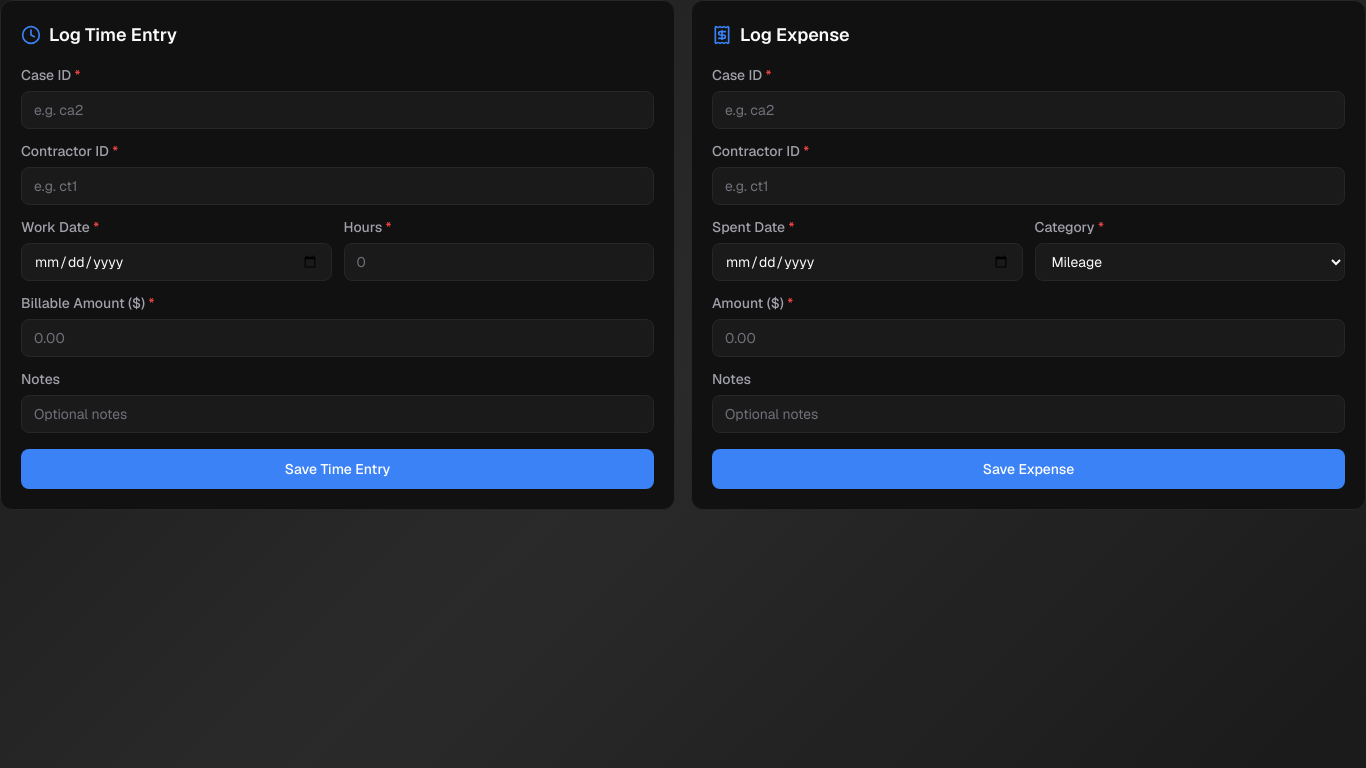
Test: TeamEntryForms › shows network error on fetch failure for expense
Type "ca1" into the field with id "ex-caseId". click: (1028, 110)
box: [712,91,1345,129]
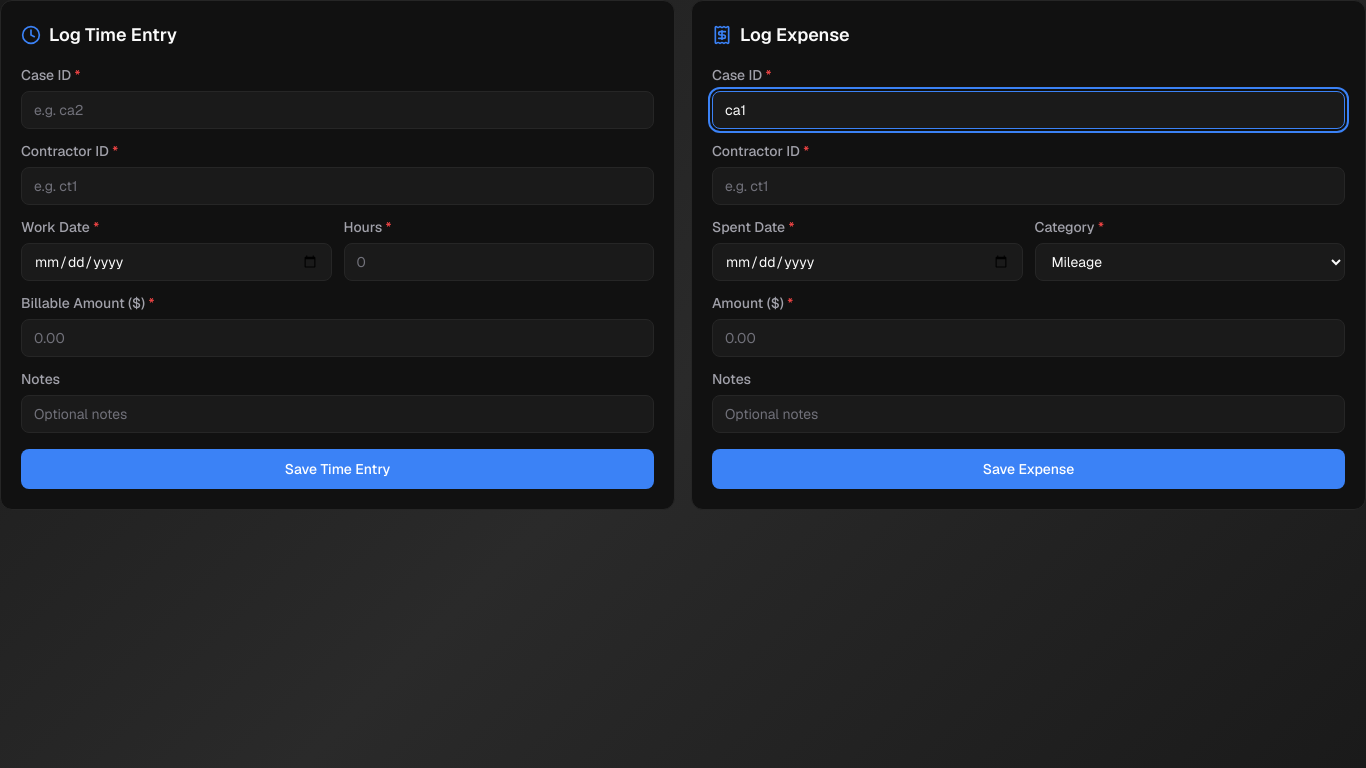
Type "ct1" into the field with id "ex-contractorId". click: (1028, 186)
box: [712,167,1345,205]
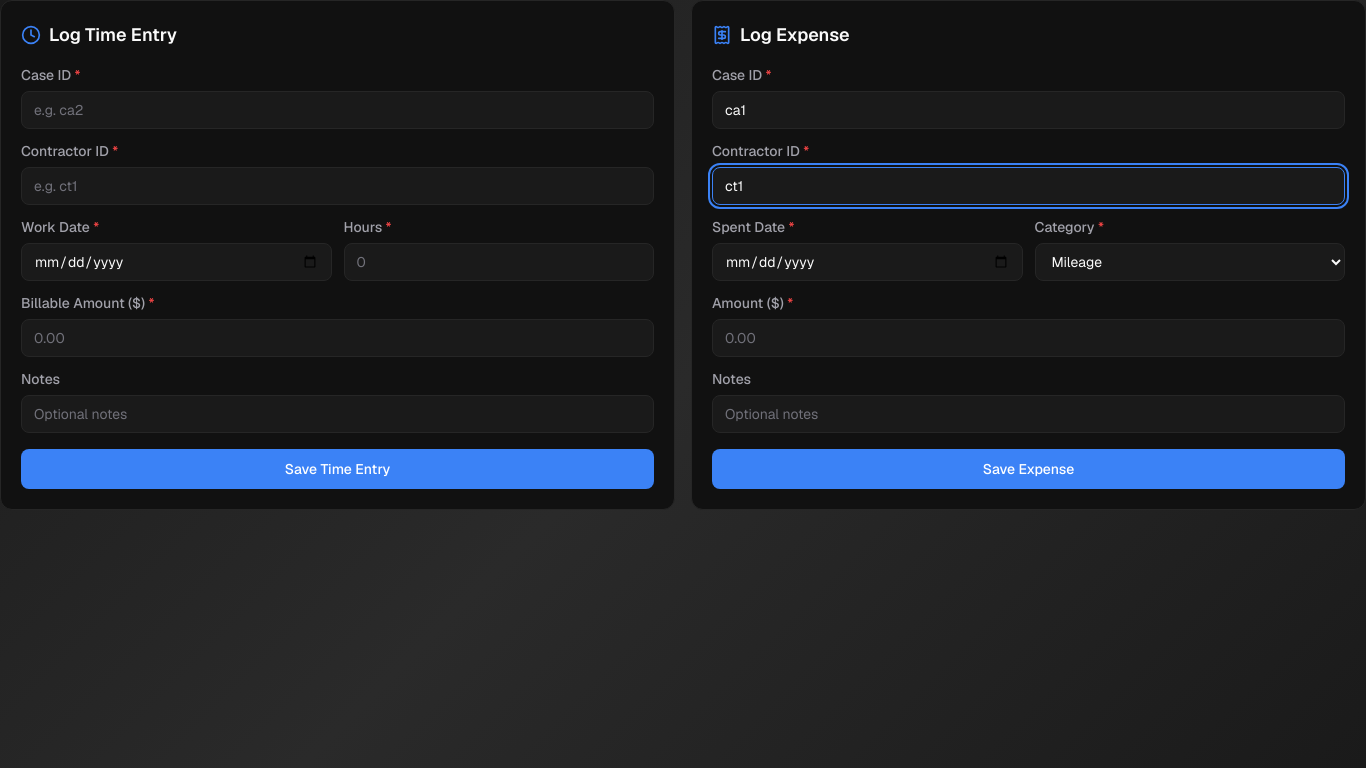
Type "2024-01-15" into the date field labelled "Spent Date *". click: (867, 262)
box: [712,243,1022,281]
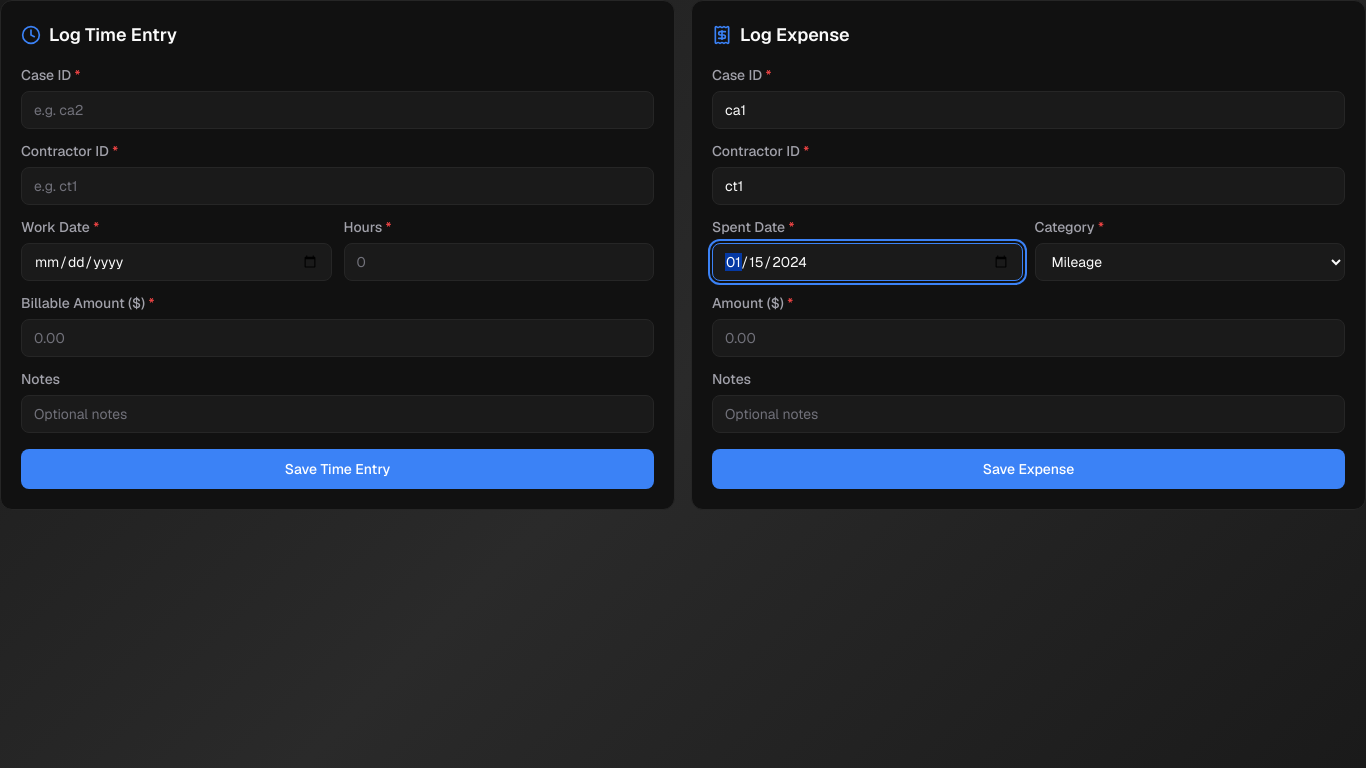
Type "50" into the number field with id "ex-amount". click: (1028, 338)
box: [712,319,1345,357]
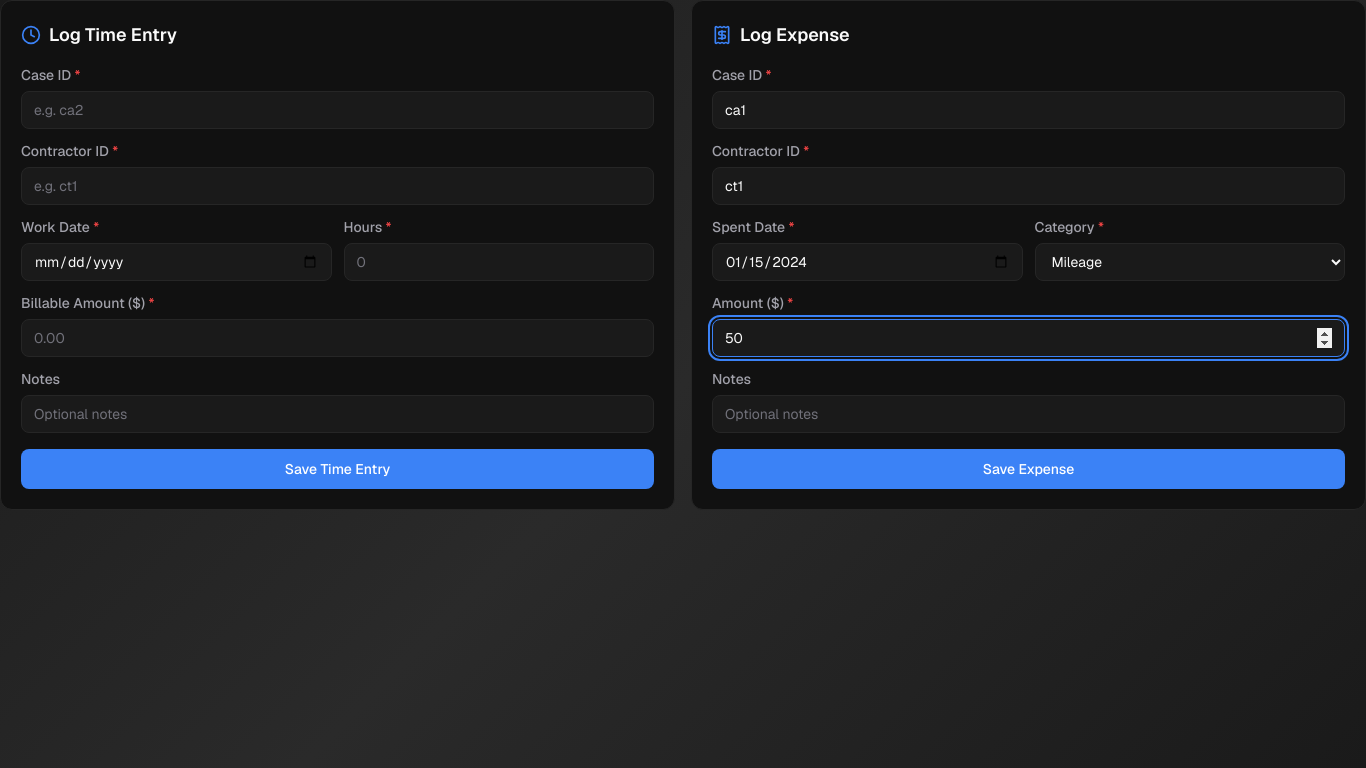
Click the button "Save Expense". click: (1028, 469)
box: [712,449,1345,489]
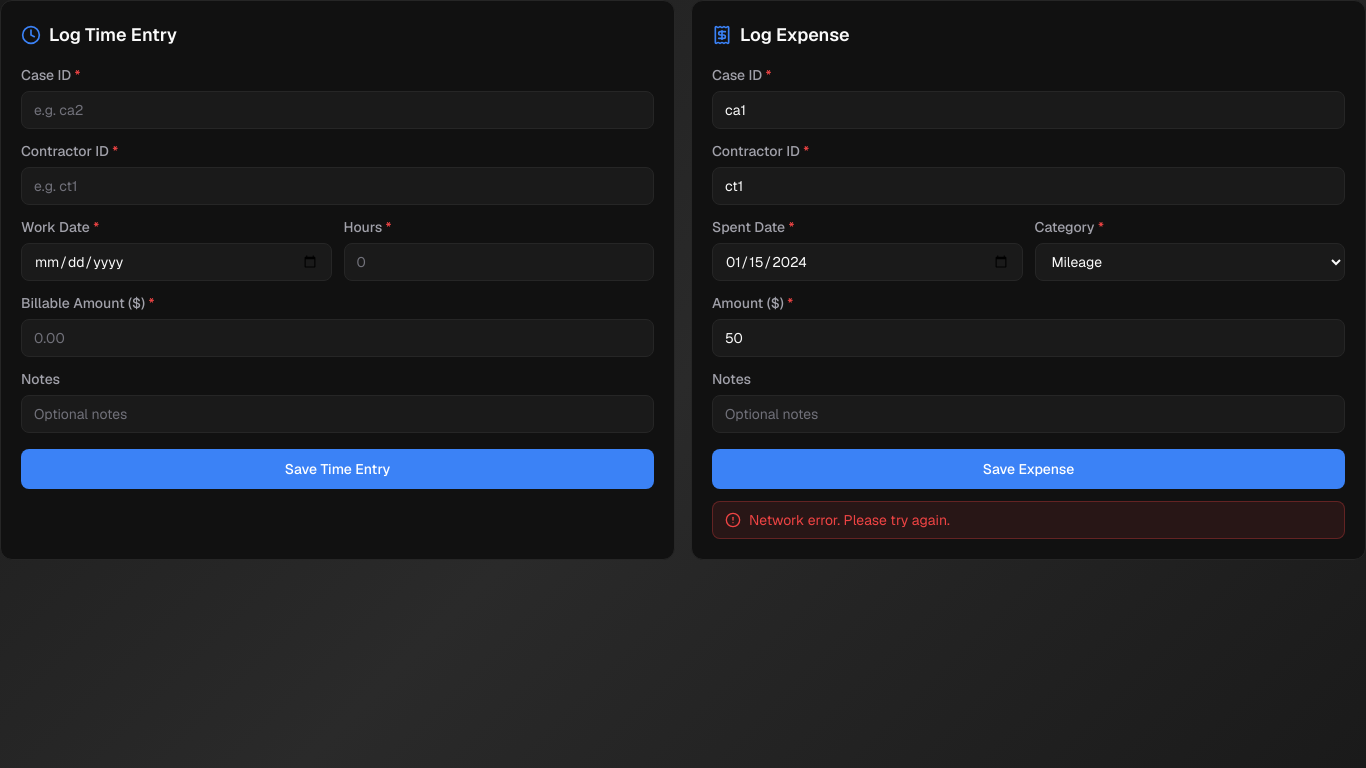
Result: the text "Network error. Please try again." is shown at [712,501,1345,539]
